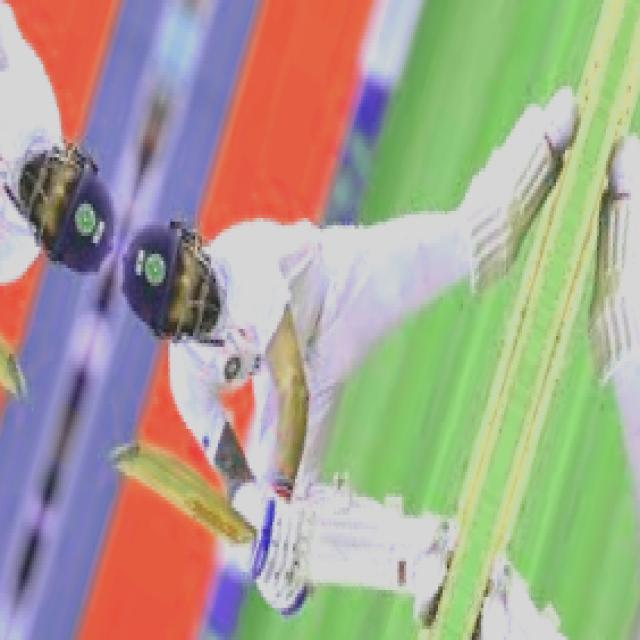bat: (103, 444, 253, 545)
toe: (103, 443, 143, 466)
